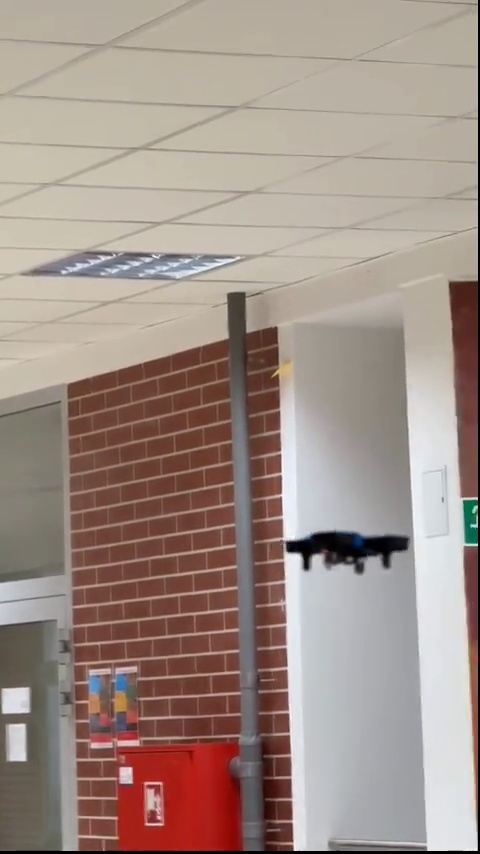drone: (285, 532, 405, 574)
